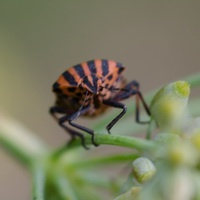insect: (50, 59, 149, 147)
